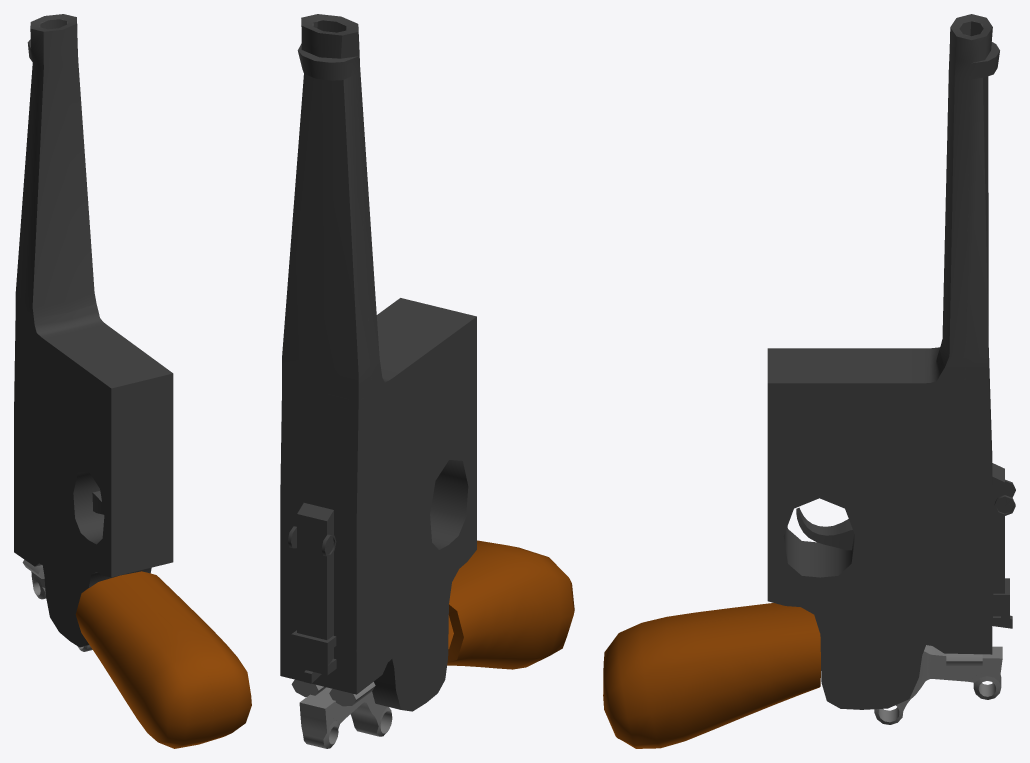
File: SemiAutomaticPistol.fbx
3 views of the same model, side by side, from view 1: azimuth 30°, elevation 25°; view 2: azimuth 150°, elevation 25°; view 3: azimuth 270°, elevation 25° (orthographic). The views are drawn at different scales.
Parts seen in each view (by area): view 1: SemiAutomaticPistol; view 2: SemiAutomaticPistol; view 3: SemiAutomaticPistol.
Boxes of the visible parts, bbox=[...] form: SemiAutomaticPistol: bbox=[14, 14, 251, 748]; SemiAutomaticPistol: bbox=[280, 14, 574, 748]; SemiAutomaticPistol: bbox=[603, 14, 1015, 748].
Bounding box in the file's own units: 0.051 × 0.3081 × 0.1623.
